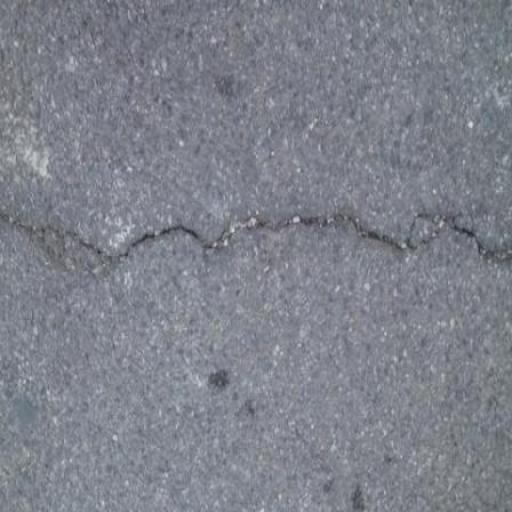spalling: (8, 200, 508, 284)
